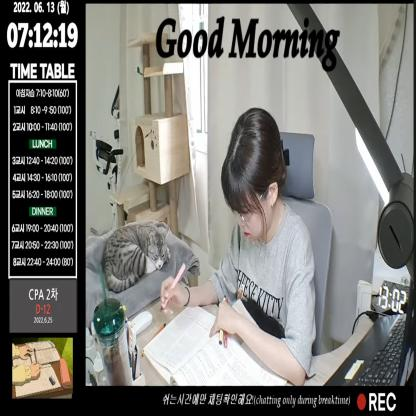streamer: (161, 107, 316, 386)
